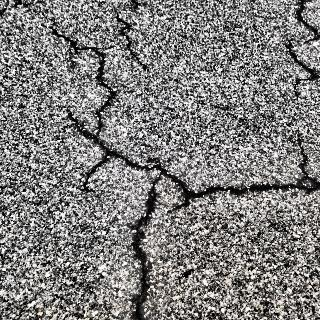crack: (100, 128, 320, 320), (47, 22, 122, 197)
